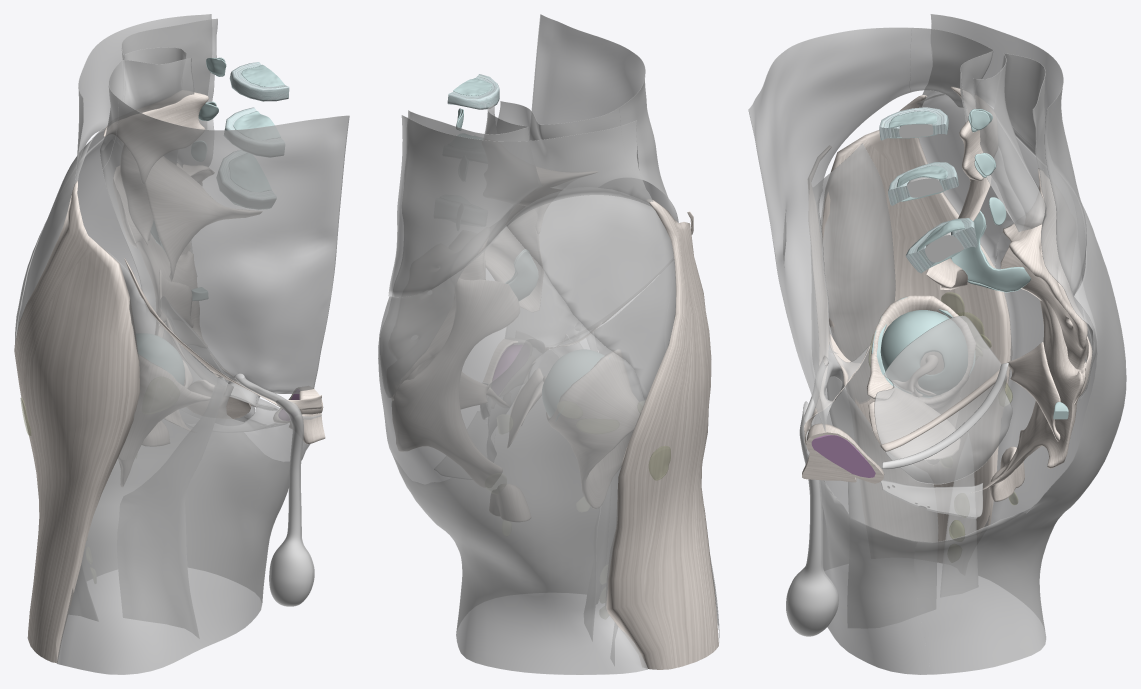
The model's file is open3d-inguinal-canal-connective-01.glb.
The picture shows the model from 3 angles, left to right: view 1: azimuth 30°, elevation 25°; view 2: azimuth 150°, elevation 25°; view 3: azimuth 270°, elevation 25°; orthographic projection. The views are drawn at different scales.
Parts seen in each view (by area): view 1: O3D_8249bc12c0437a, O3D_3facbe5e4a0920, O3D_256ed67362a9de, O3D_965cf089ccb90a, O3D_d3ab01367fcdd5, O3D_fd14cd760c33f0, O3D_d9f8f074c00a9a, O3D_00e9668da131e1, O3D_191f837f817489, O3D_510b4e1a8dbac7, O3D_7f38e682173387, O3D_216724d236d315 (+18 smaller); view 2: O3D_965cf089ccb90a, O3D_256ed67362a9de, O3D_3facbe5e4a0920, O3D_fd14cd760c33f0, O3D_8249bc12c0437a, O3D_d9f8f074c00a9a, O3D_d59e9c41d7ac56, O3D_7d66143d975061, O3D_7f611e70fa59ec, O3D_191f837f817489, O3D_00e9668da131e1, O3D_9b33c54b91a04a (+13 smaller); view 3: O3D_965cf089ccb90a, O3D_256ed67362a9de, O3D_8249bc12c0437a, O3D_3facbe5e4a0920, O3D_d3ab01367fcdd5, O3D_9b33c54b91a04a, O3D_fd14cd760c33f0, O3D_d9f8f074c00a9a, O3D_191f837f817489, O3D_6c8e3950f53f8a, O3D_d59e9c41d7ac56, O3D_d228f726532e04 (+27 smaller).
Part boxes in pixels (x1=…): O3D_8249bc12c0437a: x1=56, y1=248, x2=321, y2=674; O3D_3facbe5e4a0920: x1=102, y1=98, x2=349, y2=407; O3D_256ed67362a9de: x1=14, y1=181, x2=140, y2=662; O3D_965cf089ccb90a: x1=15, y1=139, x2=270, y2=587; O3D_d3ab01367fcdd5: x1=117, y1=376, x2=227, y2=637; O3D_fd14cd760c33f0: x1=75, y1=14, x2=211, y2=184; O3D_d9f8f074c00a9a: x1=119, y1=18, x2=217, y2=251; O3D_00e9668da131e1: x1=145, y1=156, x2=262, y2=280; O3D_191f837f817489: x1=100, y1=58, x2=194, y2=169; O3D_510b4e1a8dbac7: x1=103, y1=90, x2=208, y2=183; O3D_7f38e682173387: x1=269, y1=399, x2=314, y2=606; O3D_216724d236d315: x1=234, y1=373, x2=312, y2=604; O3D_965cf089ccb90a: x1=378, y1=226, x2=647, y2=674; O3D_256ed67362a9de: x1=605, y1=199, x2=718, y2=669; O3D_3facbe5e4a0920: x1=505, y1=14, x2=678, y2=356; O3D_fd14cd760c33f0: x1=388, y1=115, x2=653, y2=297; O3D_8249bc12c0437a: x1=469, y1=260, x2=719, y2=642; O3D_d9f8f074c00a9a: x1=380, y1=110, x2=538, y2=397; O3D_d59e9c41d7ac56: x1=506, y1=187, x2=676, y2=401; O3D_7d66143d975061: x1=392, y1=278, x2=519, y2=487; O3D_7f611e70fa59ec: x1=546, y1=349, x2=639, y2=508; O3D_191f837f817489: x1=487, y1=101, x2=635, y2=244; O3D_00e9668da131e1: x1=484, y1=205, x2=543, y2=311; O3D_9b33c54b91a04a: x1=487, y1=339, x2=544, y2=462; O3D_965cf089ccb90a: x1=913, y1=166, x2=1126, y2=674; O3D_256ed67362a9de: x1=821, y1=95, x2=1012, y2=562; O3D_8249bc12c0437a: x1=806, y1=143, x2=931, y2=674; O3D_3facbe5e4a0920: x1=748, y1=27, x2=911, y2=435; O3D_d3ab01367fcdd5: x1=826, y1=350, x2=938, y2=627; O3D_9b33c54b91a04a: x1=874, y1=315, x2=1012, y2=484; O3D_fd14cd760c33f0: x1=922, y1=14, x2=1086, y2=295; O3D_d9f8f074c00a9a: x1=1004, y1=53, x2=1096, y2=403; O3D_191f837f817489: x1=909, y1=27, x2=1025, y2=231; O3D_6c8e3950f53f8a: x1=1003, y1=168, x2=1092, y2=404; O3D_d59e9c41d7ac56: x1=917, y1=92, x2=1042, y2=266; O3D_d228f726532e04: x1=973, y1=54, x2=1045, y2=231.
Size of the model in its own units: 0.1613 by 0.3382 by 0.2023.
Materials: 9 (5 with a texture image).
